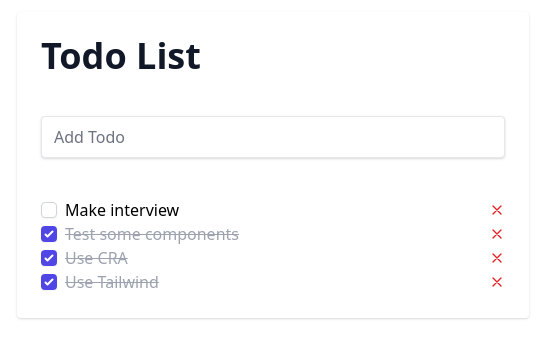
Test case: Check a todo item
The image size is (547, 337).
Click the checkbox labelled "Use Tailwind" at (49, 282), box [41, 274, 57, 290]
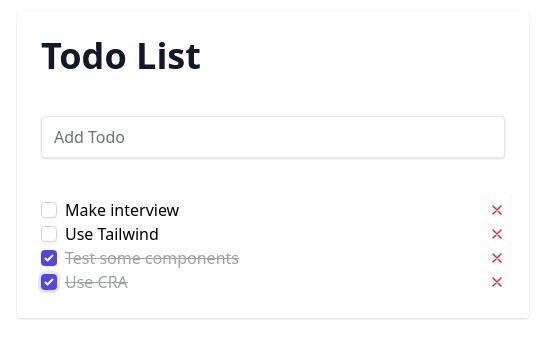
Expected: the text with test id "todo-label" reads "Use Tailwind", [65, 223, 159, 245]
